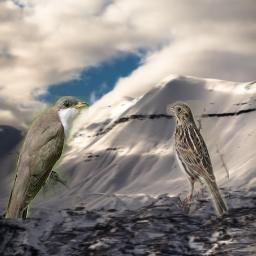Cuckoo: (5, 96, 89, 218)
Sparrow: (166, 100, 229, 219)
